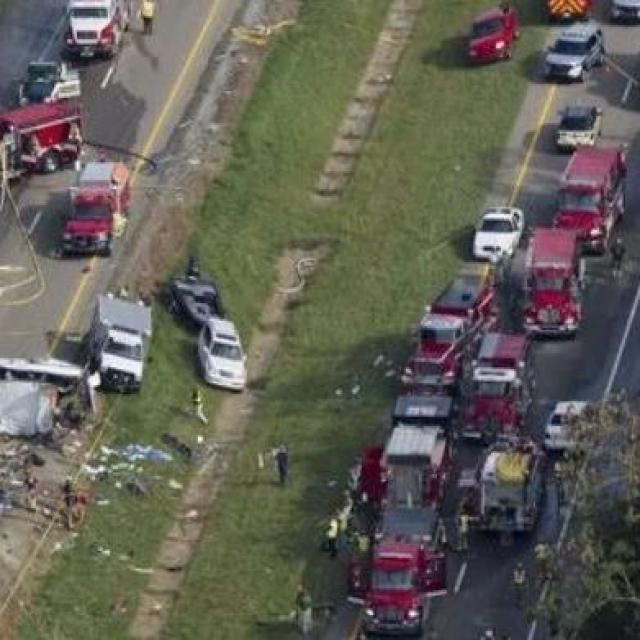traffic_incident: (0, 333, 103, 498)
